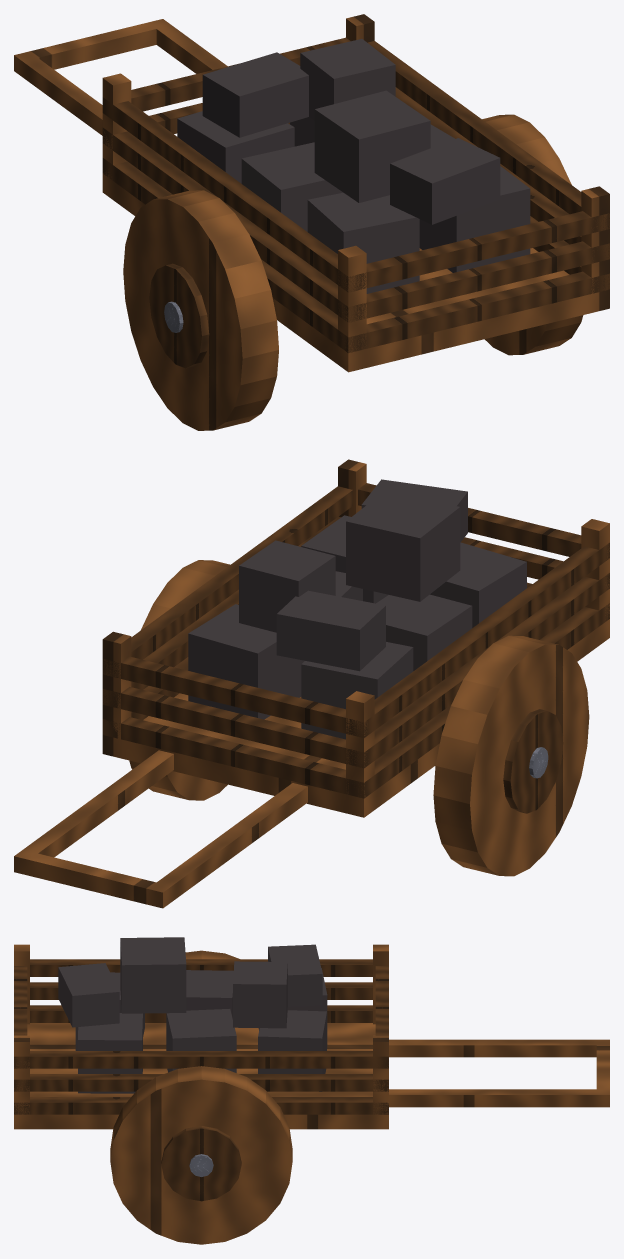
File: holzwagen_t1_voll.fbx
3 renders of one model, top to bottom at view 1: azimuth 30°, elevation 25°; view 2: azimuth 150°, elevation 25°; view 3: azimuth 270°, elevation 25°, orthographic. The views are drawn at different scales.
Visible parts, largest first — view 1: Holzwagen_T1; view 2: Holzwagen_T1; view 3: Holzwagen_T1.
Part boxes in pixels (x1,y1,x2,y2): Holzwagen_T1: (14, 14, 609, 430); Holzwagen_T1: (14, 459, 609, 908); Holzwagen_T1: (14, 937, 609, 1244).
Bounding box in the file's own units: 121 × 92 × 222.
